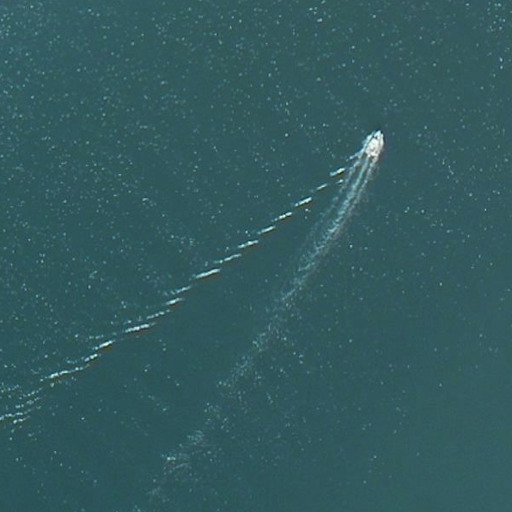ship: (362, 128, 384, 160)
